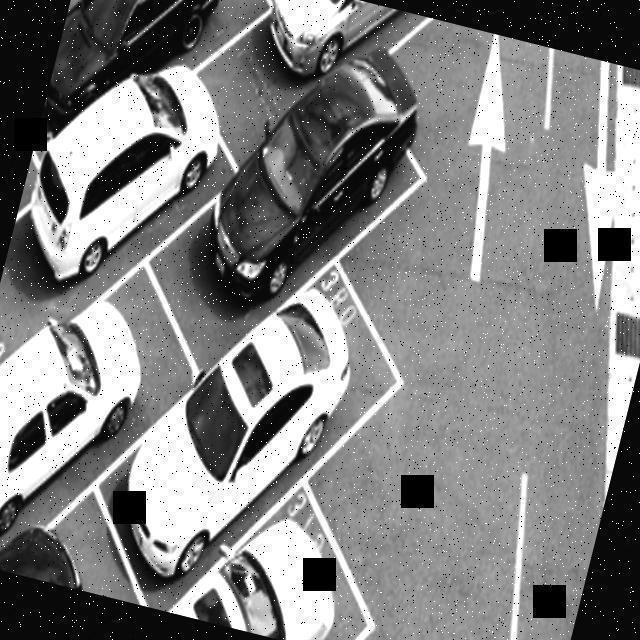Car: (110, 222, 403, 587), (188, 0, 469, 213), (0, 77, 219, 336), (0, 278, 190, 545), (174, 453, 397, 640), (45, 0, 258, 141)
